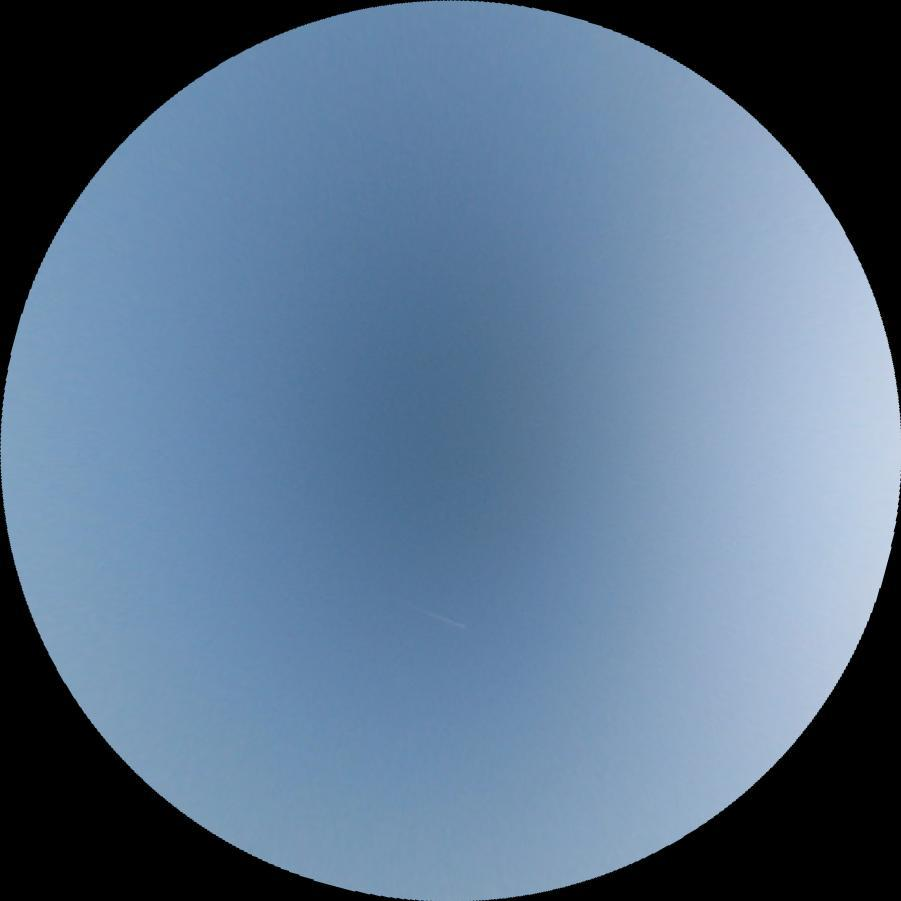contrail young: (410, 603, 468, 632)
